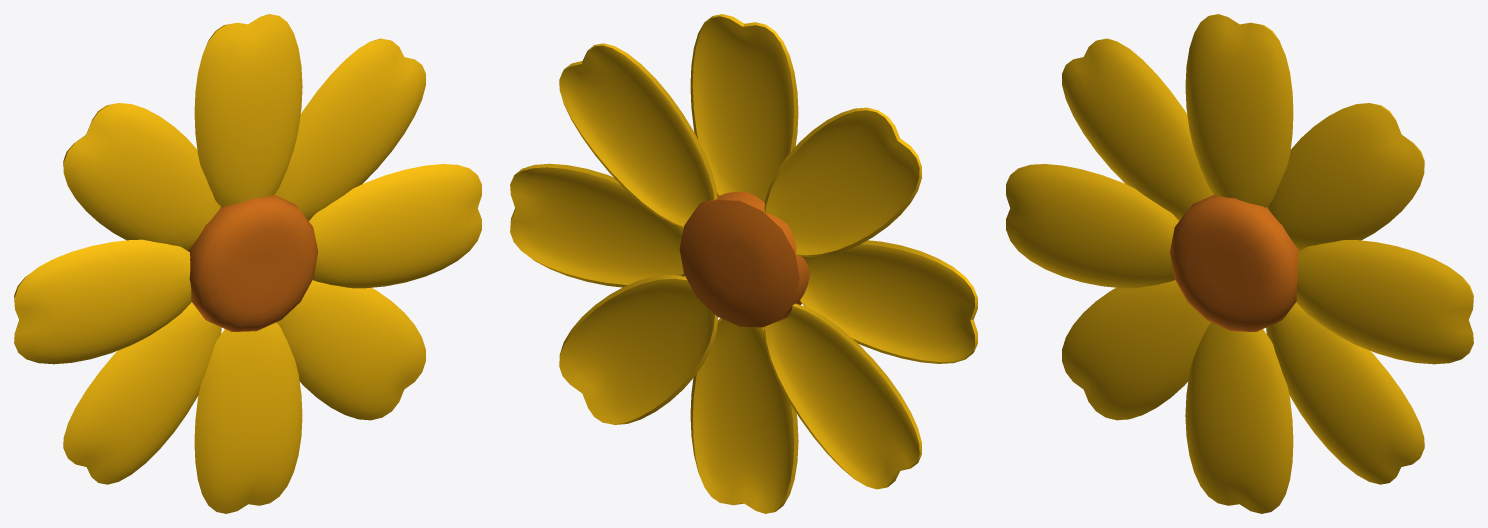
File: blossom.glb
3 renders of one model, left to right at view 1: azimuth 30°, elevation 25°; view 2: azimuth 150°, elevation 25°; view 3: azimuth 330°, elevation 25°, orthographic.
Visible parts, largest first — view 1: Cube.175, Circle.2047; view 2: Cube.175, Circle.2047; view 3: Cube.175, Circle.2047.
Part boxes in pixels (box(x1,y1,x2,y2)): Cube.175: box(14, 14, 481, 513); Circle.2047: box(188, 194, 317, 331); Cube.175: box(510, 14, 977, 513); Circle.2047: box(679, 192, 810, 327); Cube.175: box(1006, 14, 1473, 513); Circle.2047: box(1170, 194, 1299, 331).
Bounding box in the file's own units: 2.35 × 2.35 × 0.2208.
Materials: 1 (1 with a texture image).
